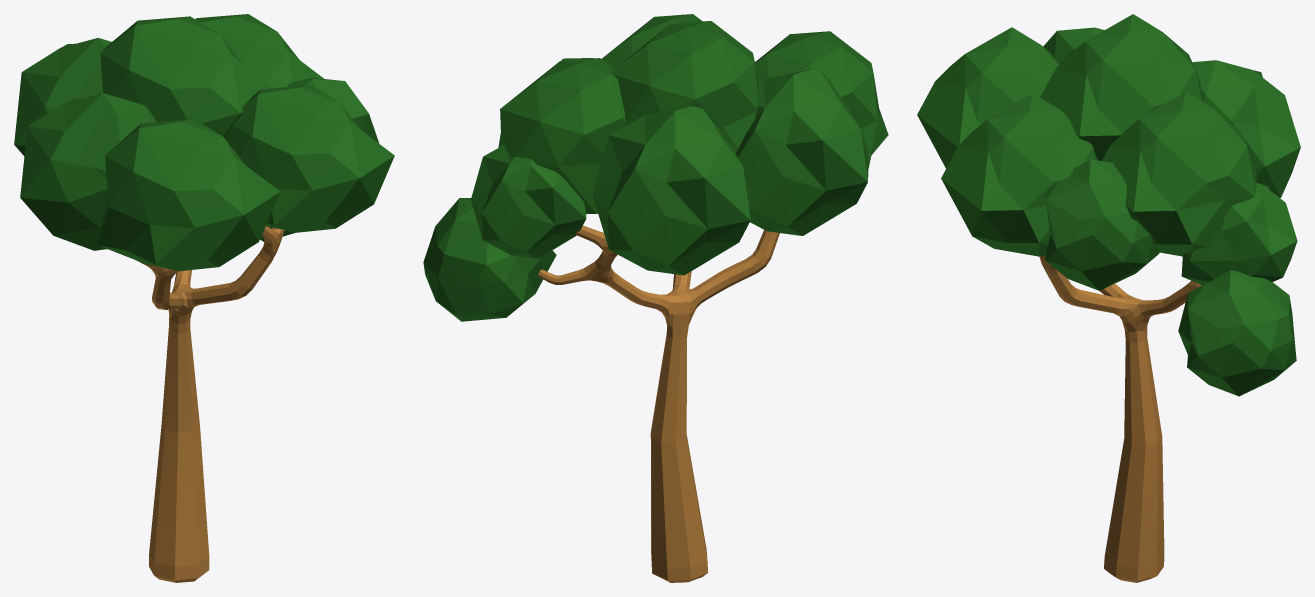
Rendered from tree.013_lev4.glb.
3 renders of one model, left to right at view 1: azimuth 30°, elevation 25°; view 2: azimuth 150°, elevation 25°; view 3: azimuth 270°, elevation 25°, orthographic. The views are drawn at different scales.
Visible parts, largest first — view 1: tree.013_lev4; view 2: tree.013_lev4; view 3: tree.013_lev4.
Boxes of the visible parts, x1,y1,x2,y2 form: tree.013_lev4: (14, 14, 394, 582); tree.013_lev4: (423, 14, 888, 582); tree.013_lev4: (917, 14, 1300, 582).
Bounding box in the file's own units: 1.91 × 2.76 × 1.78.
